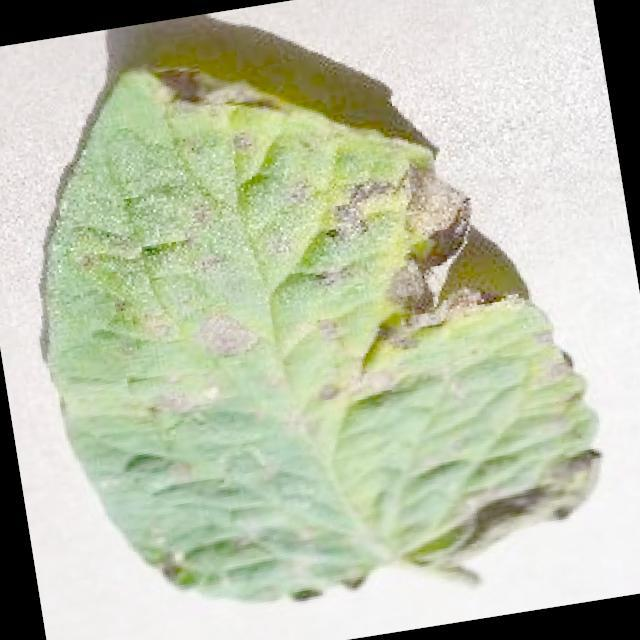Tomato Early blight leaf: (0, 0, 619, 635)
